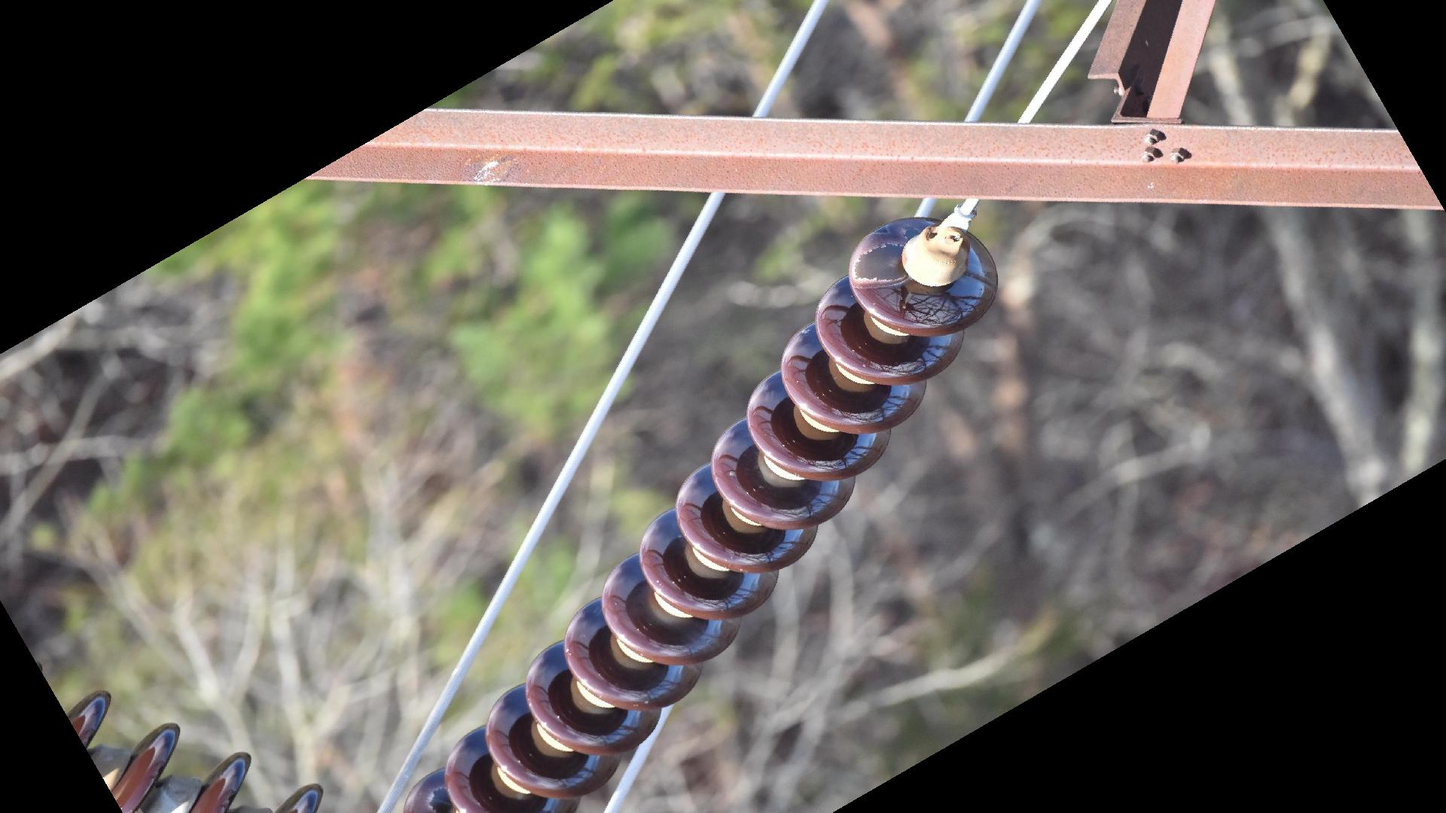insulator: (398, 215, 1006, 813), (56, 685, 330, 813)
insulator_flashover: (845, 237, 911, 288)
